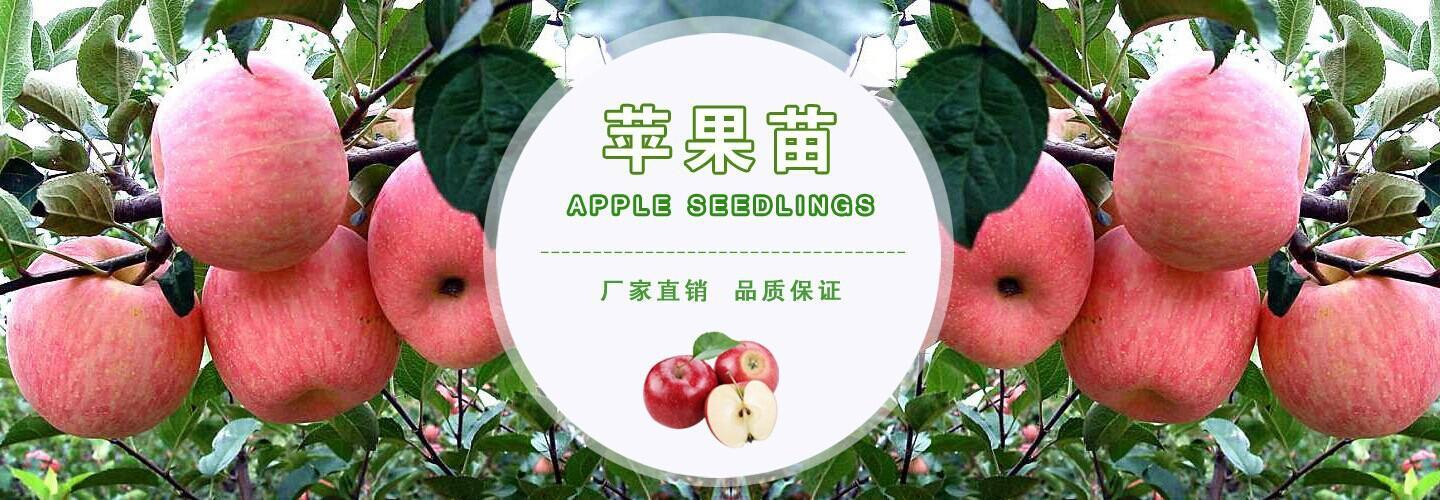apple: (1111, 63, 1314, 272), (152, 64, 349, 277), (197, 224, 402, 428), (7, 238, 206, 438), (1063, 225, 1260, 423), (928, 151, 1099, 367), (363, 152, 526, 378), (1257, 238, 1440, 436), (643, 356, 716, 427), (705, 378, 777, 448), (717, 341, 779, 392)
